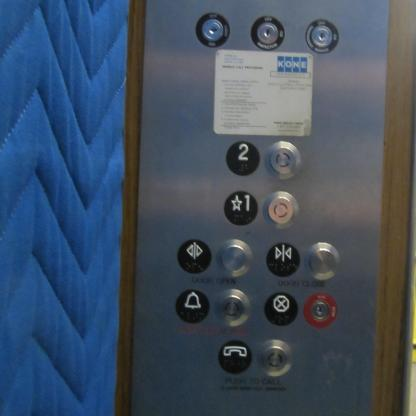2: (223, 140, 261, 177)
alarm: (172, 286, 214, 327)
call: (216, 336, 255, 376)
close: (262, 241, 305, 281)
empty: (261, 186, 305, 231), (212, 233, 257, 277), (302, 237, 345, 283), (262, 140, 306, 182), (212, 286, 253, 330), (255, 336, 295, 380)
keyhole: (302, 289, 340, 332), (302, 16, 342, 56), (248, 12, 287, 51), (192, 10, 232, 48)
open: (174, 236, 216, 276)
s1: (220, 187, 260, 229)
stop: (263, 290, 301, 329)
